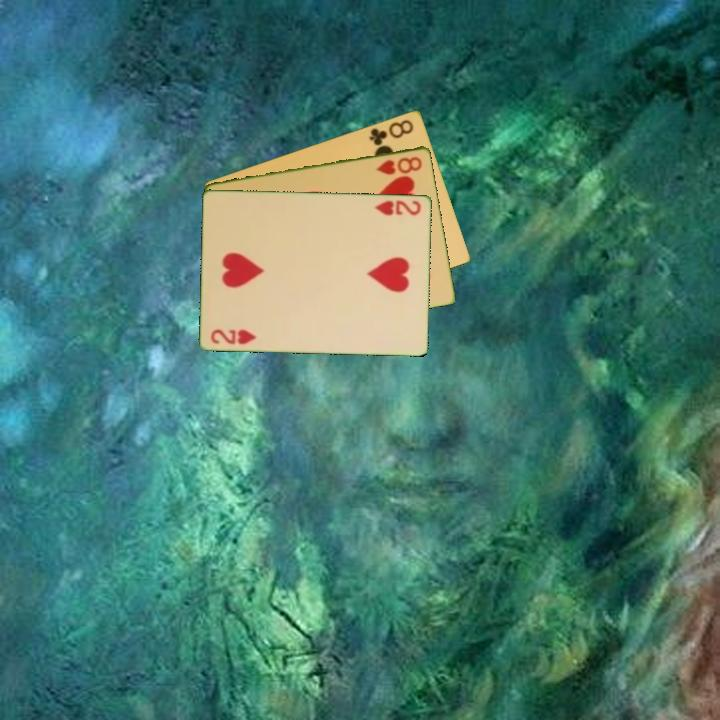2h: (207, 325, 259, 347), (372, 197, 424, 218)
8c: (366, 116, 417, 148)
8h: (373, 153, 425, 178)
